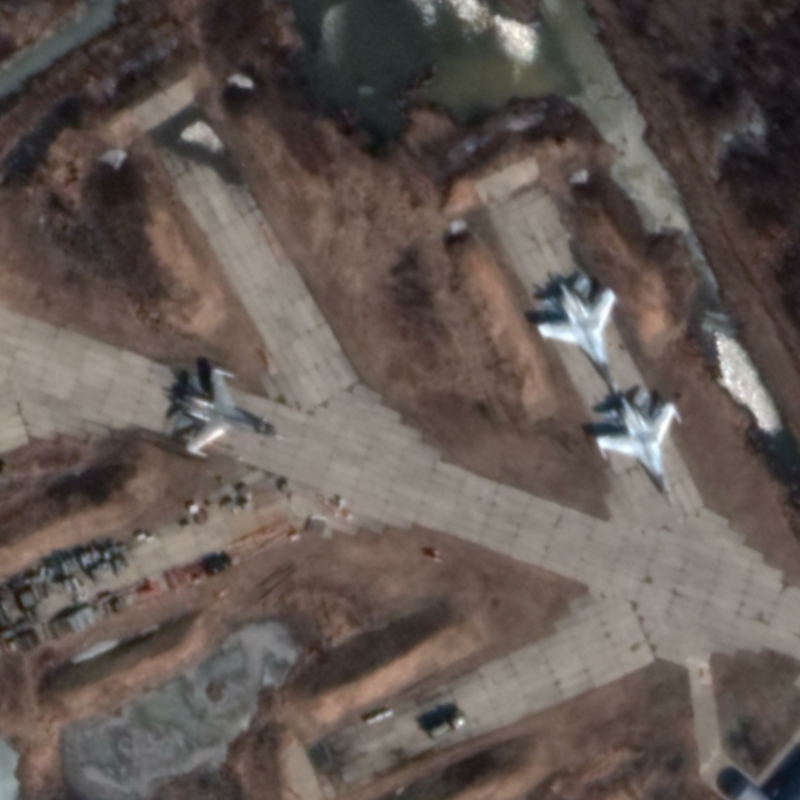A1: (590, 382, 686, 512), (531, 268, 623, 403), (168, 361, 291, 461)
